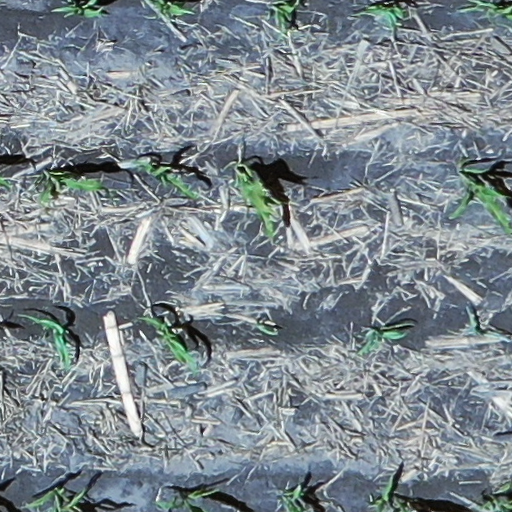planta: (235, 165, 285, 236), (142, 314, 197, 373), (15, 313, 71, 369), (135, 162, 197, 200), (37, 171, 104, 203), (346, 4, 404, 28), (359, 327, 403, 353)
